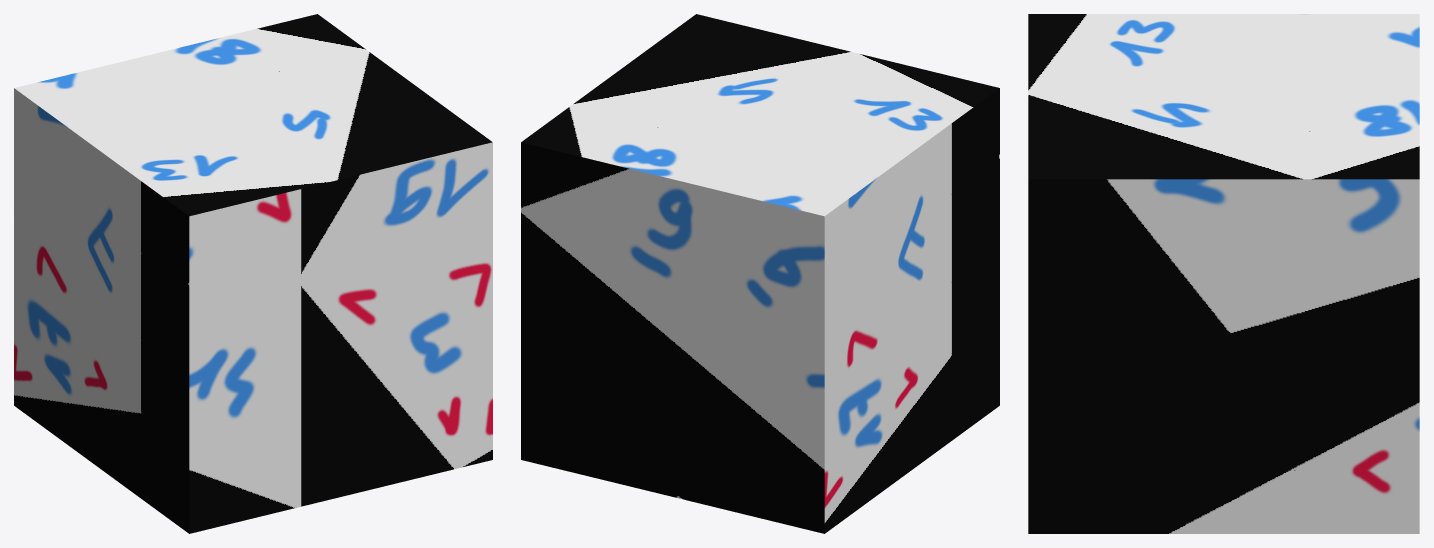
The model's file is dice6phy.glb.
3 views of the same model, side by side, from view 1: azimuth 30°, elevation 25°; view 2: azimuth 150°, elevation 25°; view 3: azimuth 270°, elevation 25° (orthographic). The views are drawn at different scales.
Visible parts, largest first — view 1: Cube; view 2: Cube; view 3: Cube.
Part boxes in pixels (x1,y1,x2,y2): Cube: (14,14,492,533); Cube: (521,14,999,533); Cube: (1028,14,1419,533).
Bounding box in the file's own units: 6 × 6 × 6.
1 material, 1 textured.
